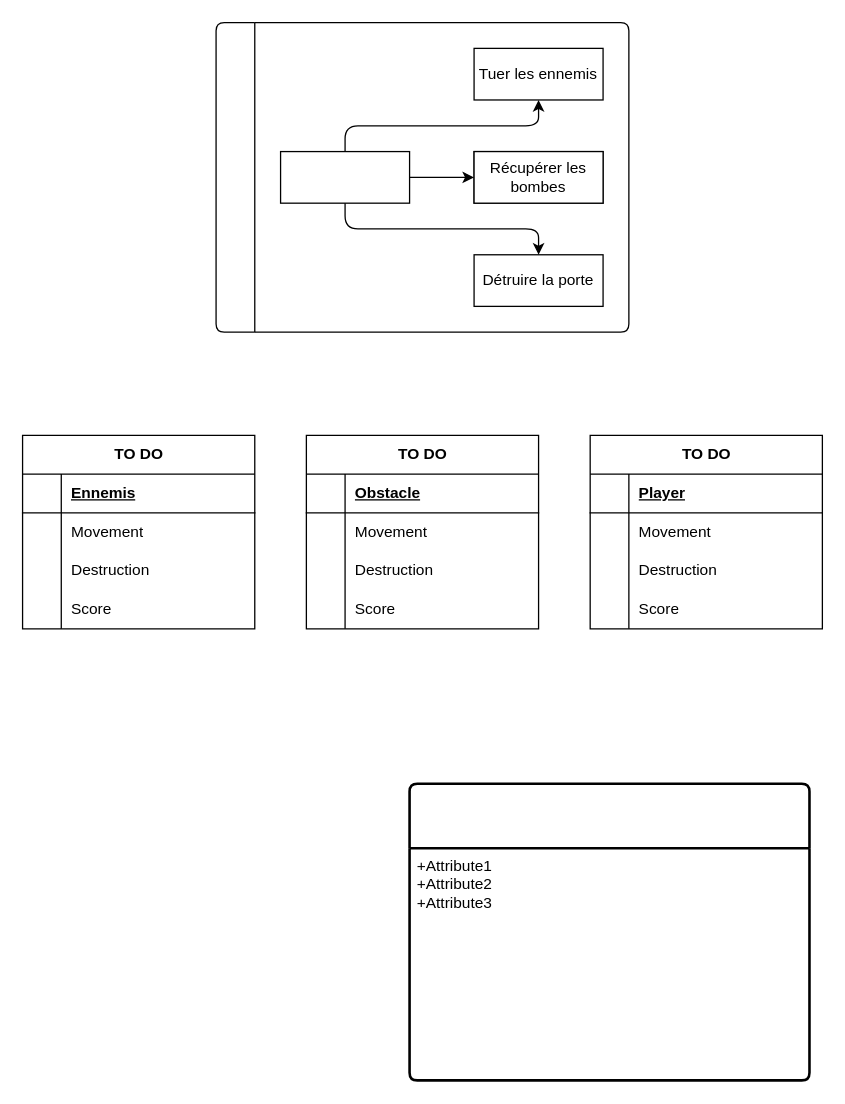
The diagram is 845 pixels wide and 1104 high, and some of its shapes have lost their labels. Each missing label, with the box of its shape:
Attention: (408, 782, 810, 1081)
Règles du jeu: (215, 21, 629, 332)
Sortir de la zone: (279, 150, 410, 203)
